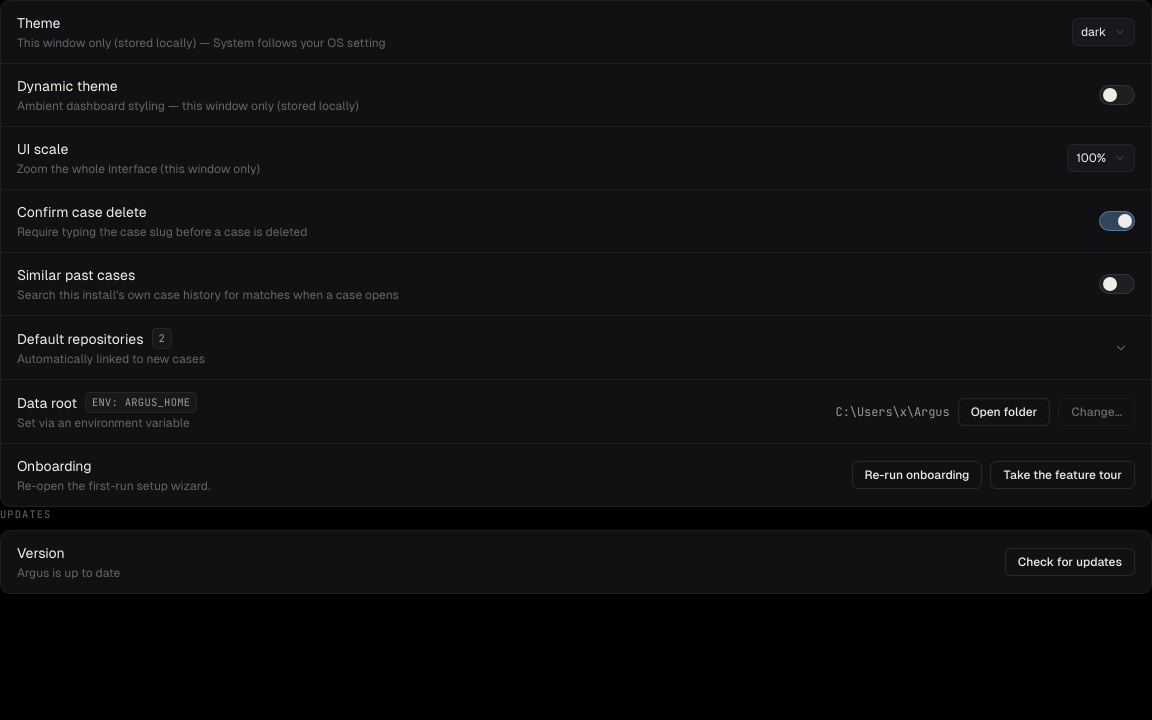
Test: GeneralSettings default repositories › lists every default repo once expanded
This screenshot has width=1152, height=720.
Step 1. Click the button named "Expand default repositories" → [1121, 348], box [1107,334,1135,362]
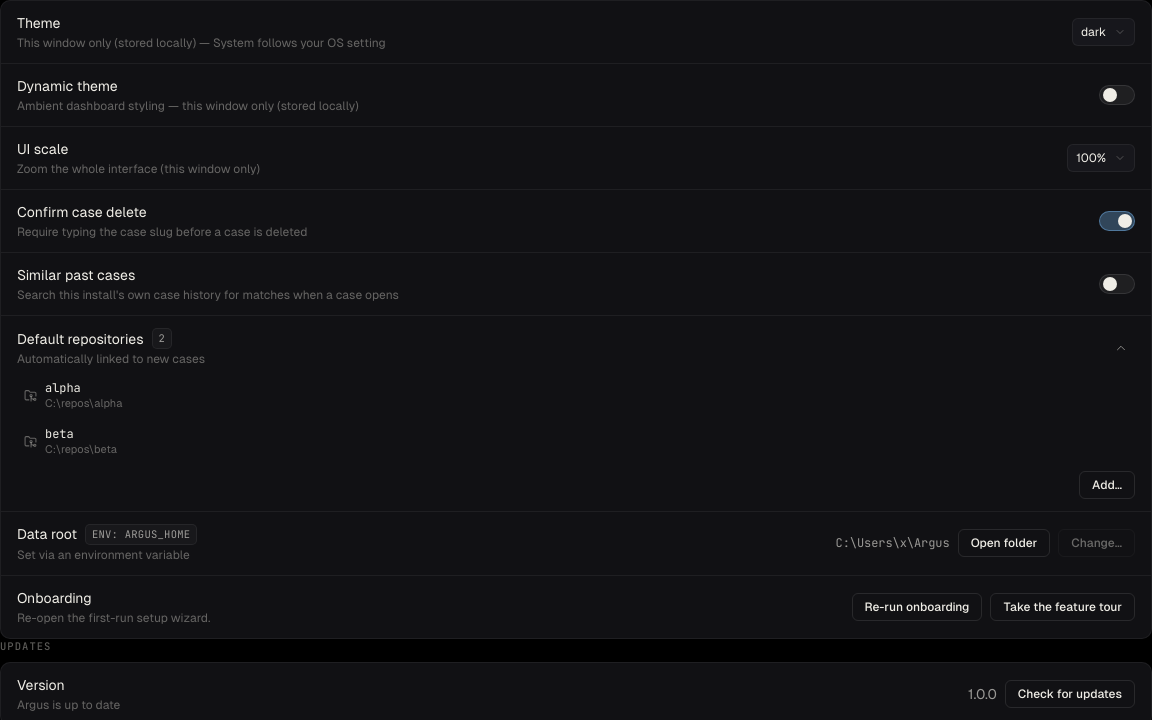
Now the text titled "C:\\repos\\alpha" is shown, box [45,397,122,409]
Now the text titled "C:\\repos\\beta" is shown, box [45,443,117,455]
Now the text "alpha" is shown, box [45,380,81,396]
